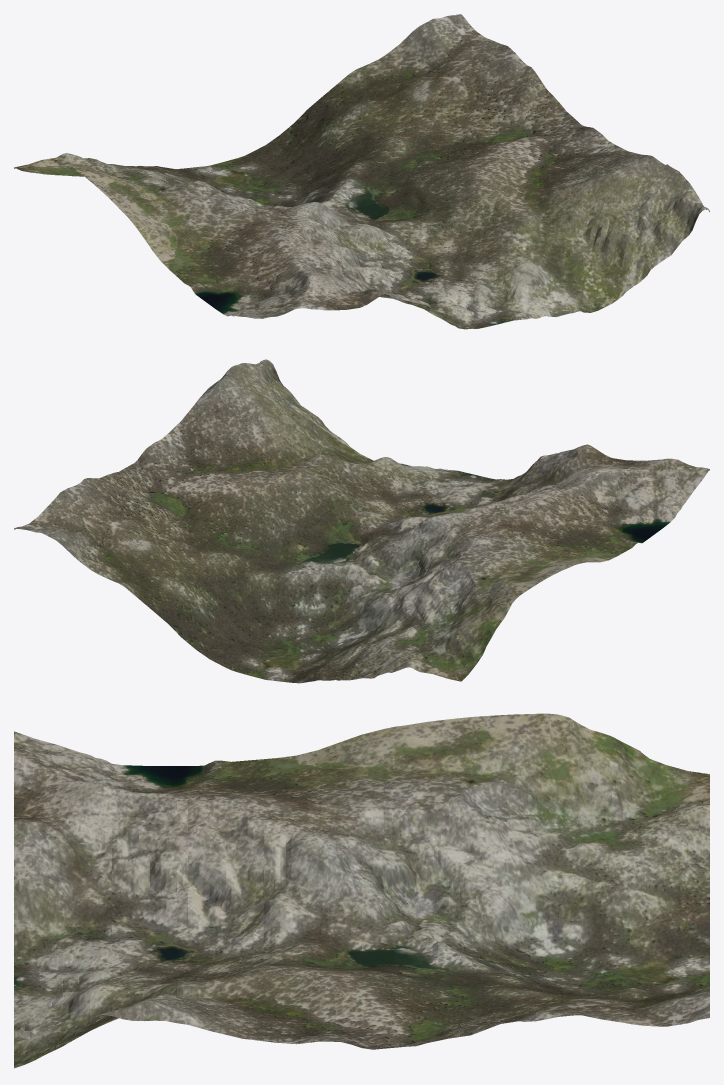
3 views of the same model, one above another, from view 1: azimuth 30°, elevation 25°; view 2: azimuth 150°, elevation 25°; view 3: azimuth 270°, elevation 25° (orthographic). The views are drawn at different scales.
Size of the model in its own units: 2000 by 422 by 1925.
Materials: 1 (1 with a texture image).
